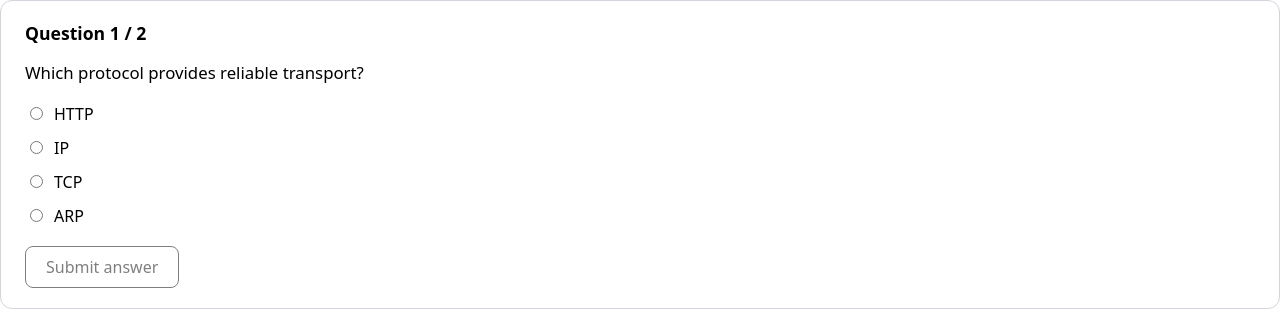
Quiz › cannot submit until an option is chosen
Expected: the button "Submit answer" is disabled, 25,246 -> 179,288
Click the radio button labelled "TCP". click: (36, 182)
box: 30,175 -> 43,188
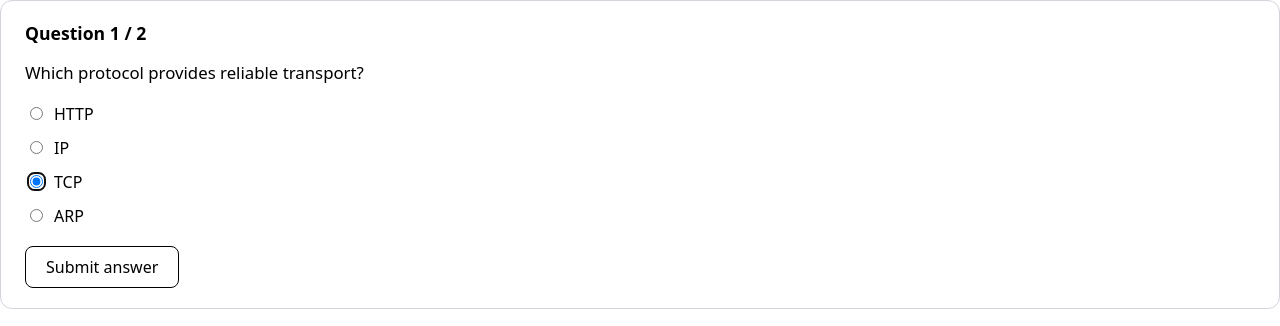
Expected: the button "Submit answer" is enabled, 25,246 -> 179,288
